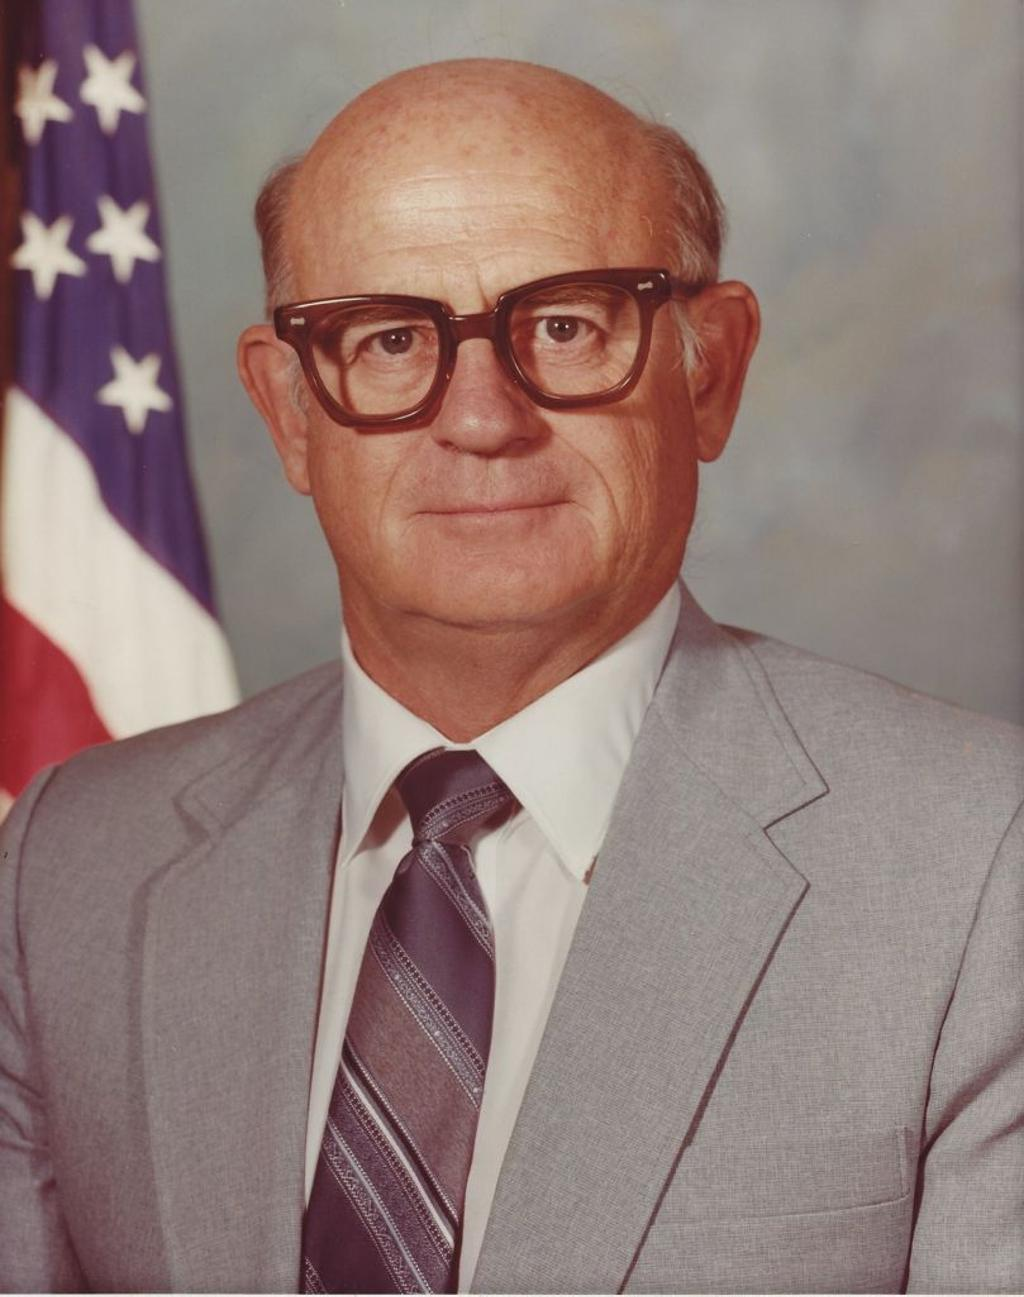face: (297, 74, 681, 607)
